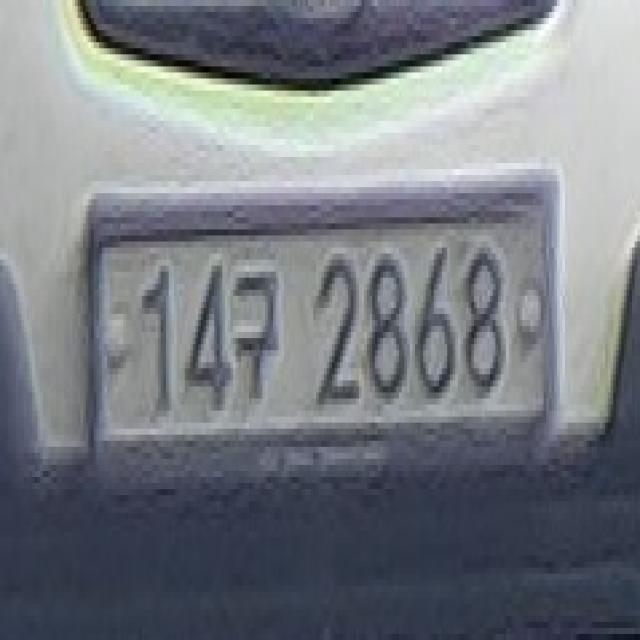1: (139, 248, 182, 440)
2: (313, 242, 359, 428)
4: (185, 242, 233, 440)
6: (412, 242, 460, 410)
8: (359, 236, 415, 428), (464, 236, 512, 417)
gu: (230, 247, 284, 428)
license_plate: (83, 169, 562, 495)
